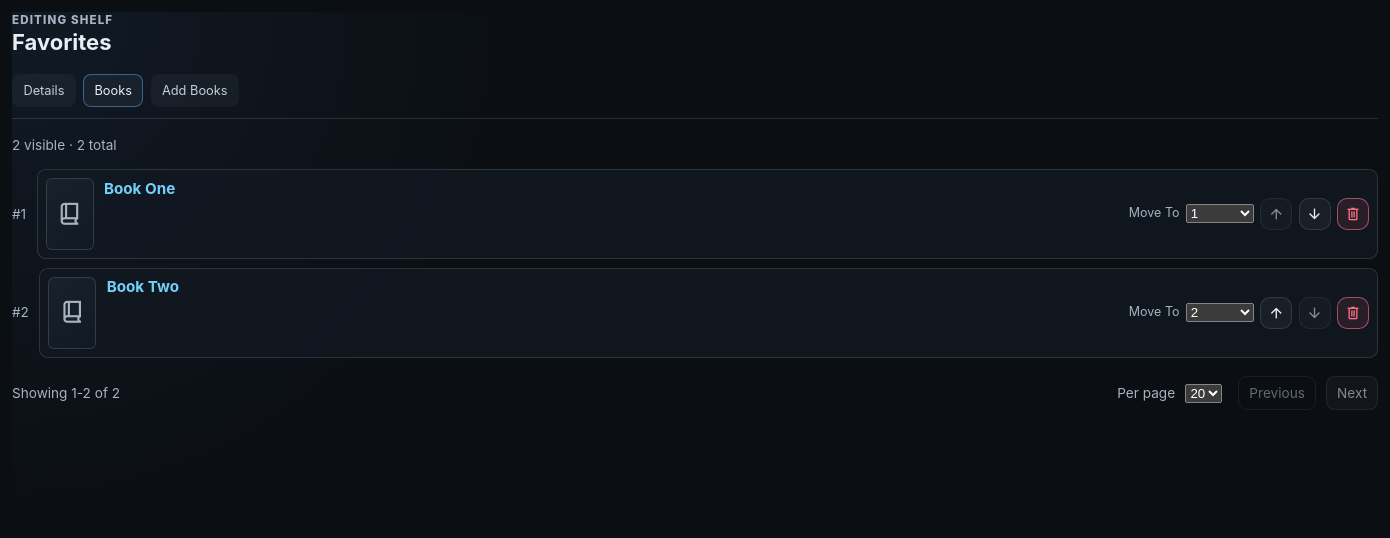
Test: ShelfEditOrchestrator item mutations › reports remove as committed when only the summary refresh fails
The image size is (1390, 538).
Click the button named "Remove Book One from shelf" at [1353, 214], box [1337,198,1369,230]
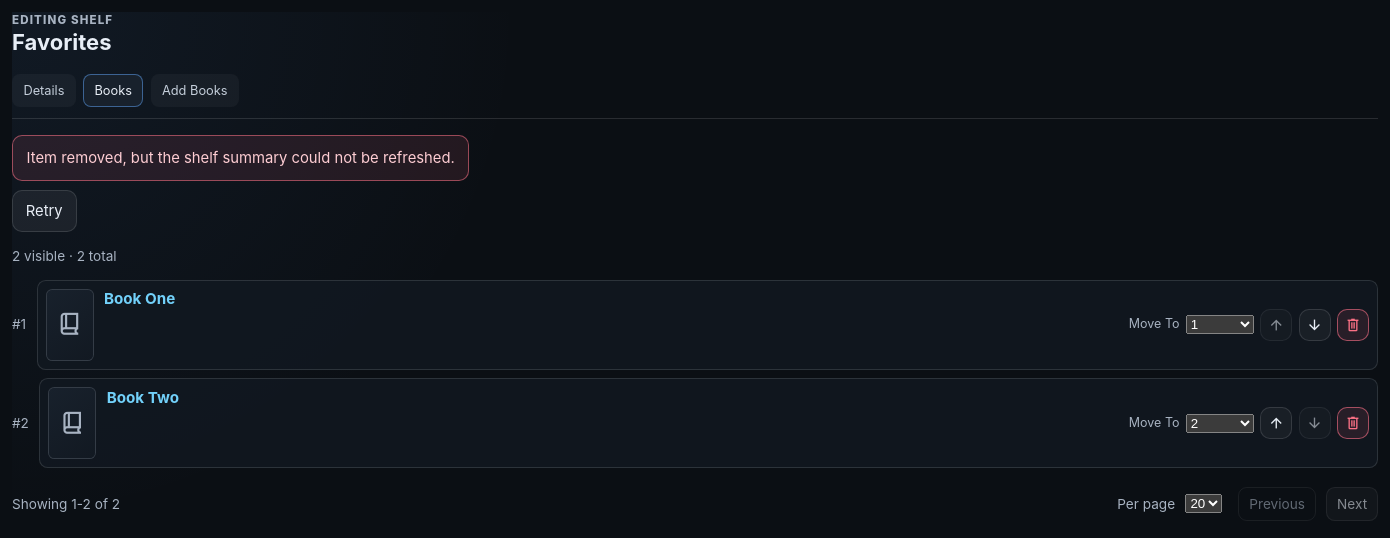
expect the button named "Remove Book One from shelf" is enabled: met, box [1337,308,1369,340]
expect the message "Item removed, but the shelf summary could not be refreshed." is shown: met, box [12,135,469,181]
